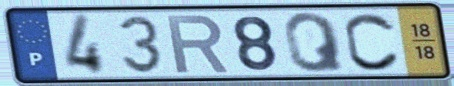3: (112, 13, 165, 76)
4: (61, 11, 108, 78)
8: (231, 14, 281, 72)
C: (342, 11, 403, 74)
Q: (281, 10, 348, 74)
R: (163, 13, 232, 75)
